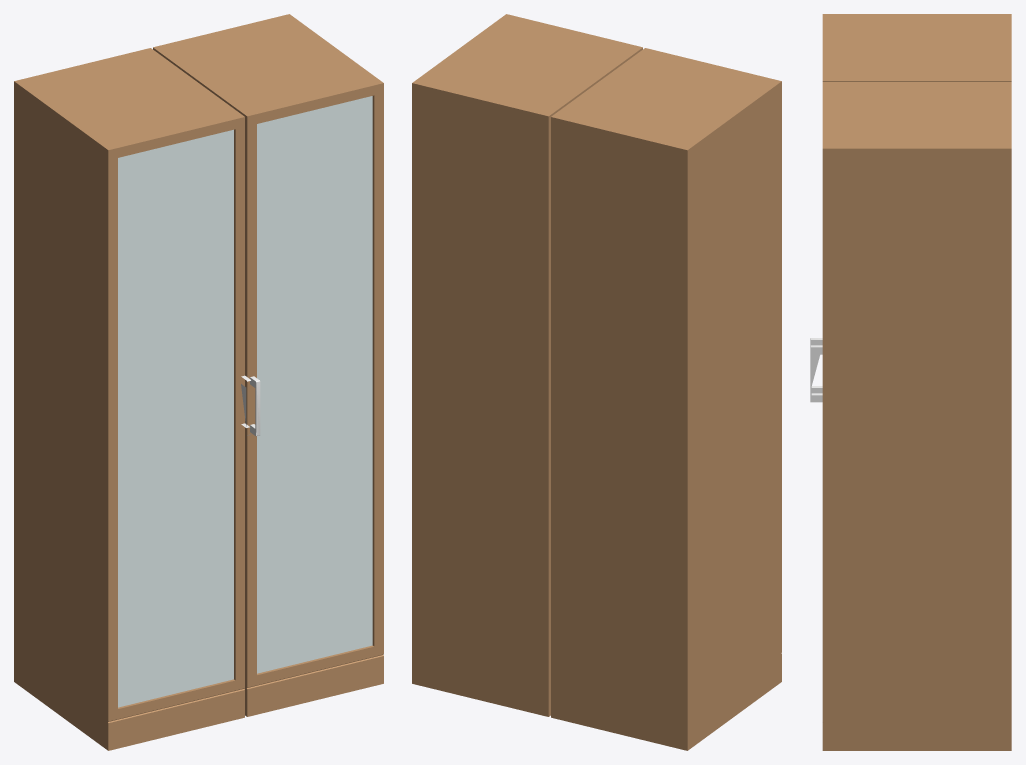
Rendered from DBL WR - Mirror.glb.
3 renders of one model, left to right at view 1: azimuth 30°, elevation 25°; view 2: azimuth 150°, elevation 25°; view 3: azimuth 270°, elevation 25°, orthographic.
Visible parts, largest first — view 1: Mesh10 SHUTTER_2_2 Model, Mesh5 SHUTTER_2_1 Model, Mesh7 CP10000251_SHUTTER2 CP10000263CABINET2 Model, Mesh2 CP10000251_SHUTTER1 CP10000263CABINET1 Model, Mesh9 SHUTTER_5_2 Model, Mesh4 SHUTTER_5_1 Model; view 2: Mesh7 CP10000251_SHUTTER2 CP10000263CABINET2 Model, Mesh2 CP10000251_SHUTTER1 CP10000263CABINET1 Model, Mesh10 SHUTTER_2_2 Model; view 3: Mesh2 CP10000251_SHUTTER1 CP10000263CABINET1 Model, Mesh7 CP10000251_SHUTTER2 CP10000263CABINET2 Model, Mesh5 SHUTTER_2_1 Model, Mesh10 SHUTTER_2_2 Model, Mesh8 BASE_HANDLE_2_2 Model.
Part boxes in pixels (x1,y1,x2,y2): Mesh10 SHUTTER_2_2 Model: [105, 115, 244, 721]; Mesh5 SHUTTER_2_1 Model: [244, 81, 383, 687]; Mesh7 CP10000251_SHUTTER2 CP10000263CABINET2 Model: [14, 48, 241, 748]; Mesh2 CP10000251_SHUTTER1 CP10000263CABINET1 Model: [153, 14, 380, 115]; Mesh9 SHUTTER_5_2 Model: [105, 688, 244, 750]; Mesh4 SHUTTER_5_1 Model: [244, 655, 383, 716]; Mesh7 CP10000251_SHUTTER2 CP10000263CABINET2 Model: [551, 50, 778, 750]; Mesh2 CP10000251_SHUTTER1 CP10000263CABINET1 Model: [412, 16, 640, 716]; Mesh10 SHUTTER_2_2 Model: [643, 48, 781, 654]; Mesh2 CP10000251_SHUTTER1 CP10000263CABINET1 Model: [828, 82, 1011, 750]; Mesh7 CP10000251_SHUTTER2 CP10000263CABINET2 Model: [828, 14, 1011, 81]; Mesh5 SHUTTER_2_1 Model: [822, 82, 828, 722]; Mesh10 SHUTTER_2_2 Model: [822, 14, 828, 81]; Mesh8 BASE_HANDLE_2_2 Model: [810, 338, 822, 393].
Size of the model in its own units: 1008 by 2100 by 637.
